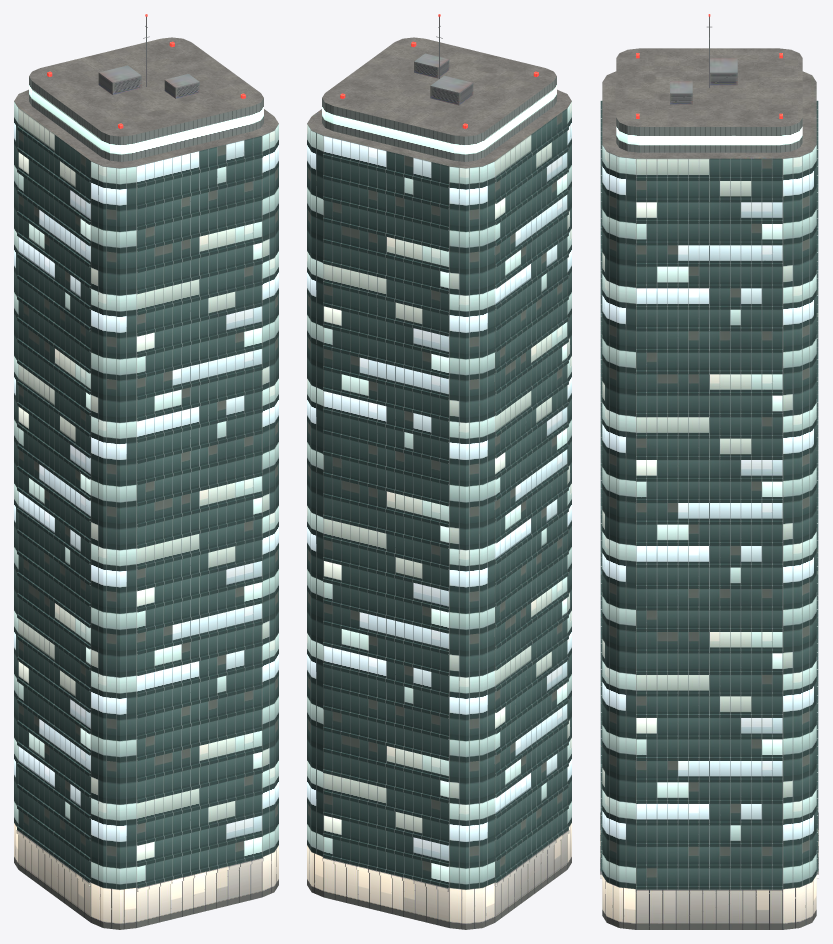
File: tokyo_glasstower_b.glb
3 renders of one model, left to right at view 1: azimuth 30°, elevation 25°; view 2: azimuth 150°, elevation 25°; view 3: azimuth 270°, elevation 25°, orthographic.
Parts seen in each view (by area): view 1: tokyo_glasstower_b; view 2: tokyo_glasstower_b; view 3: tokyo_glasstower_b.
Part boxes in pixels (x1,y1,x2,y2): tokyo_glasstower_b: (14,14,278,929); tokyo_glasstower_b: (307,14,571,929); tokyo_glasstower_b: (600,14,818,929).
Bounding box in the file's own units: 38.8 × 170 × 38.8.
1 material, 1 textured.
